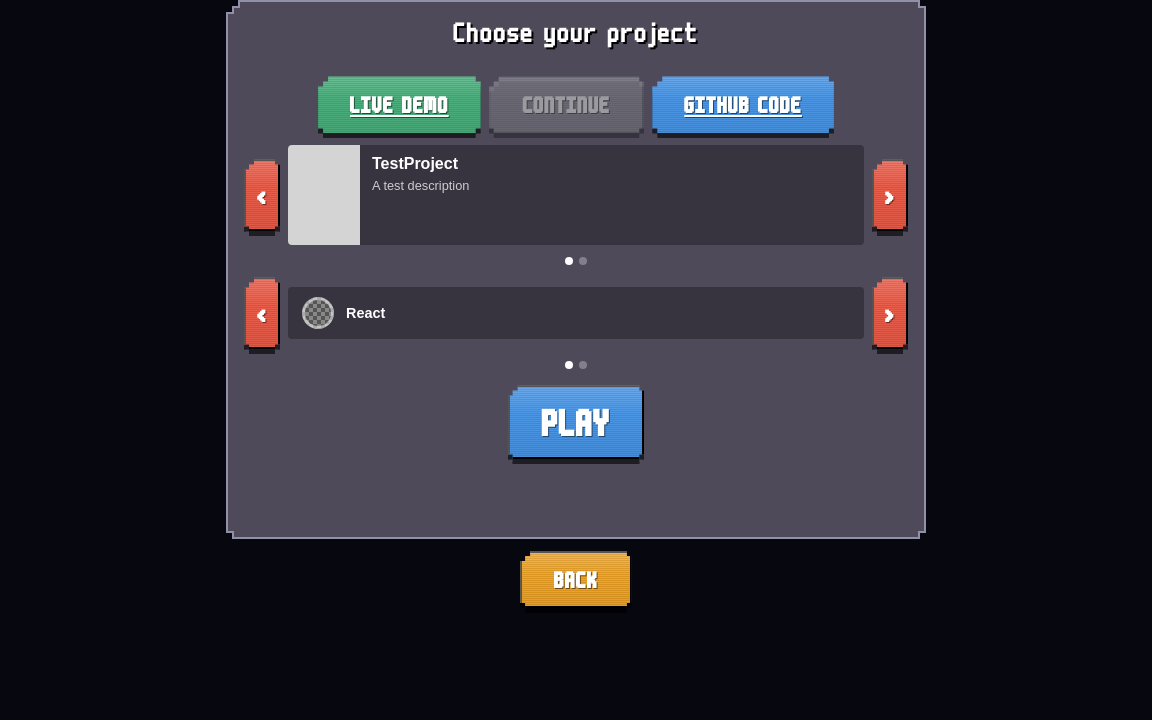
Test: PlayModal › prev deck arrow wraps to last project
Click the button "<" next to "TestProject".
click(262, 195)  # box [244,159,280,231]
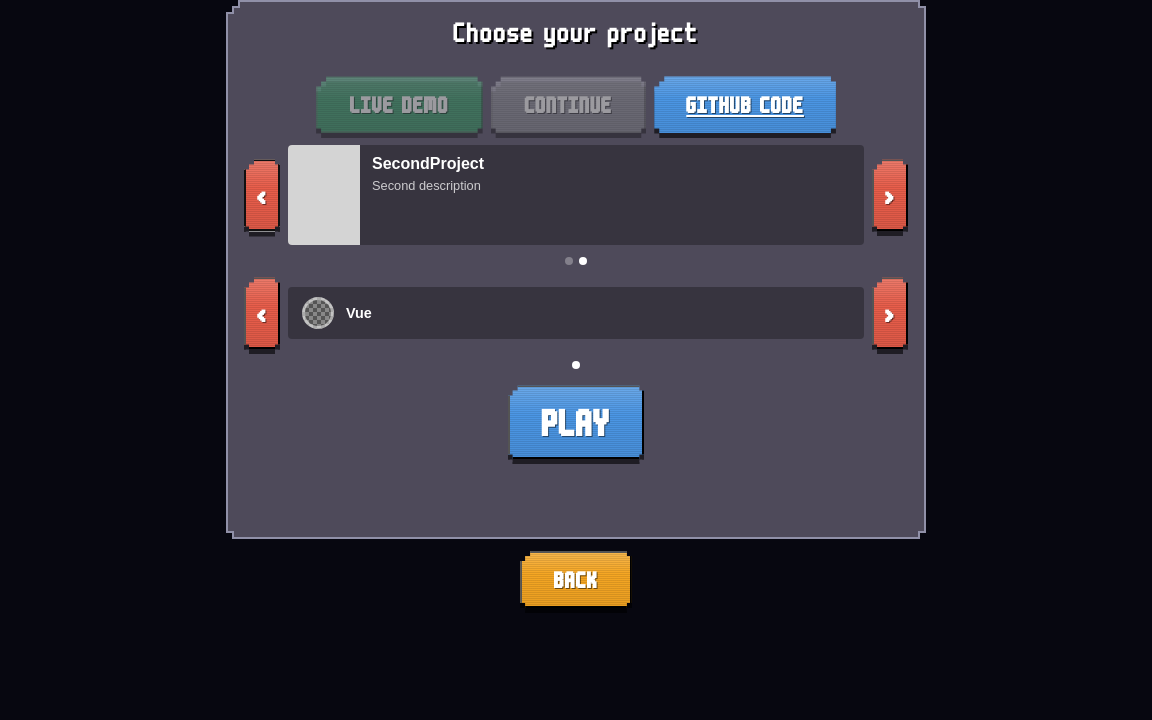
Check: the text "SecondProject" is shown, box [372,155,484,173]
